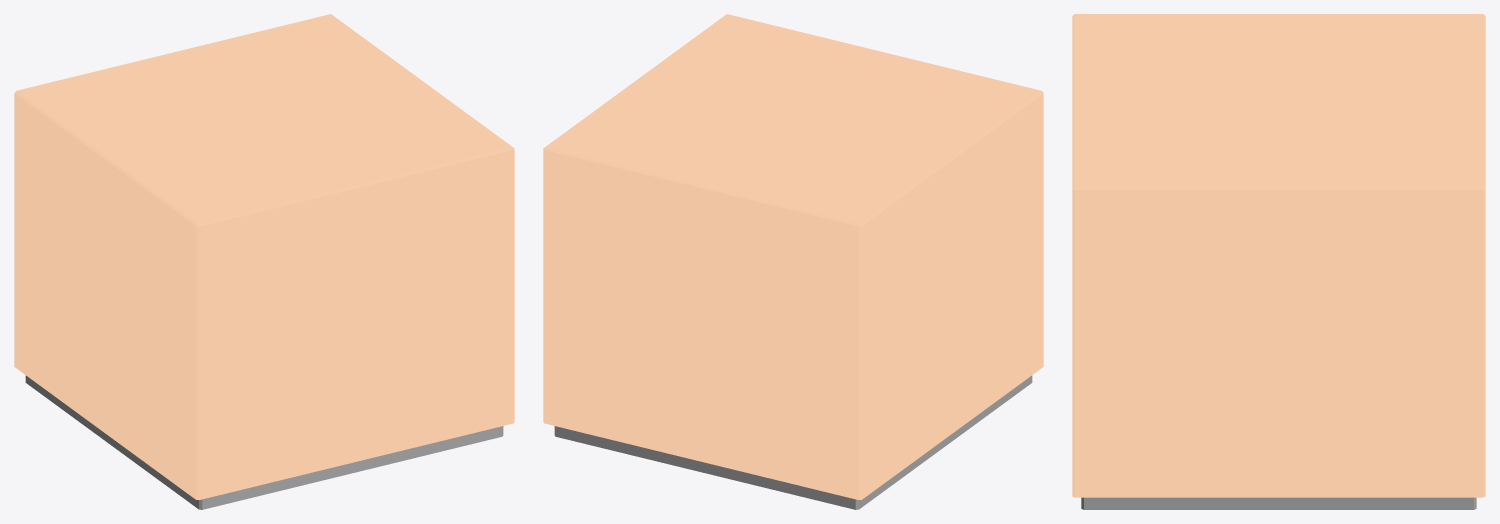
Rendered from NMS_Display_Box3_02.001.gltf.
3 renders of one model, left to right at view 1: azimuth 30°, elevation 25°; view 2: azimuth 150°, elevation 25°; view 3: azimuth 270°, elevation 25°, orthographic. The views are drawn at different scales.
Parts seen in each view (by area): view 1: NMS_Display_Box3_02; view 2: NMS_Display_Box3_02; view 3: NMS_Display_Box3_02.
Boxes of the visible parts, bbox=[...] form: NMS_Display_Box3_02: bbox=[14, 14, 514, 509]; NMS_Display_Box3_02: bbox=[543, 14, 1043, 509]; NMS_Display_Box3_02: bbox=[1072, 14, 1485, 509].
Size of what is drawn, in the model's own units: 1 by 0.87 by 1.
